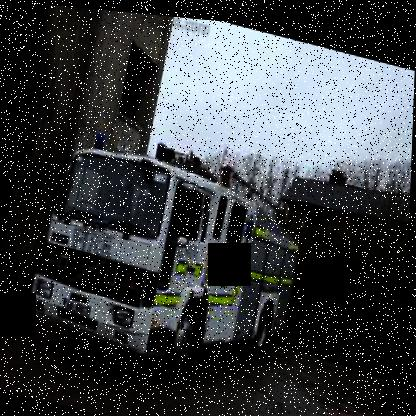emergency: (14, 104, 345, 415)
